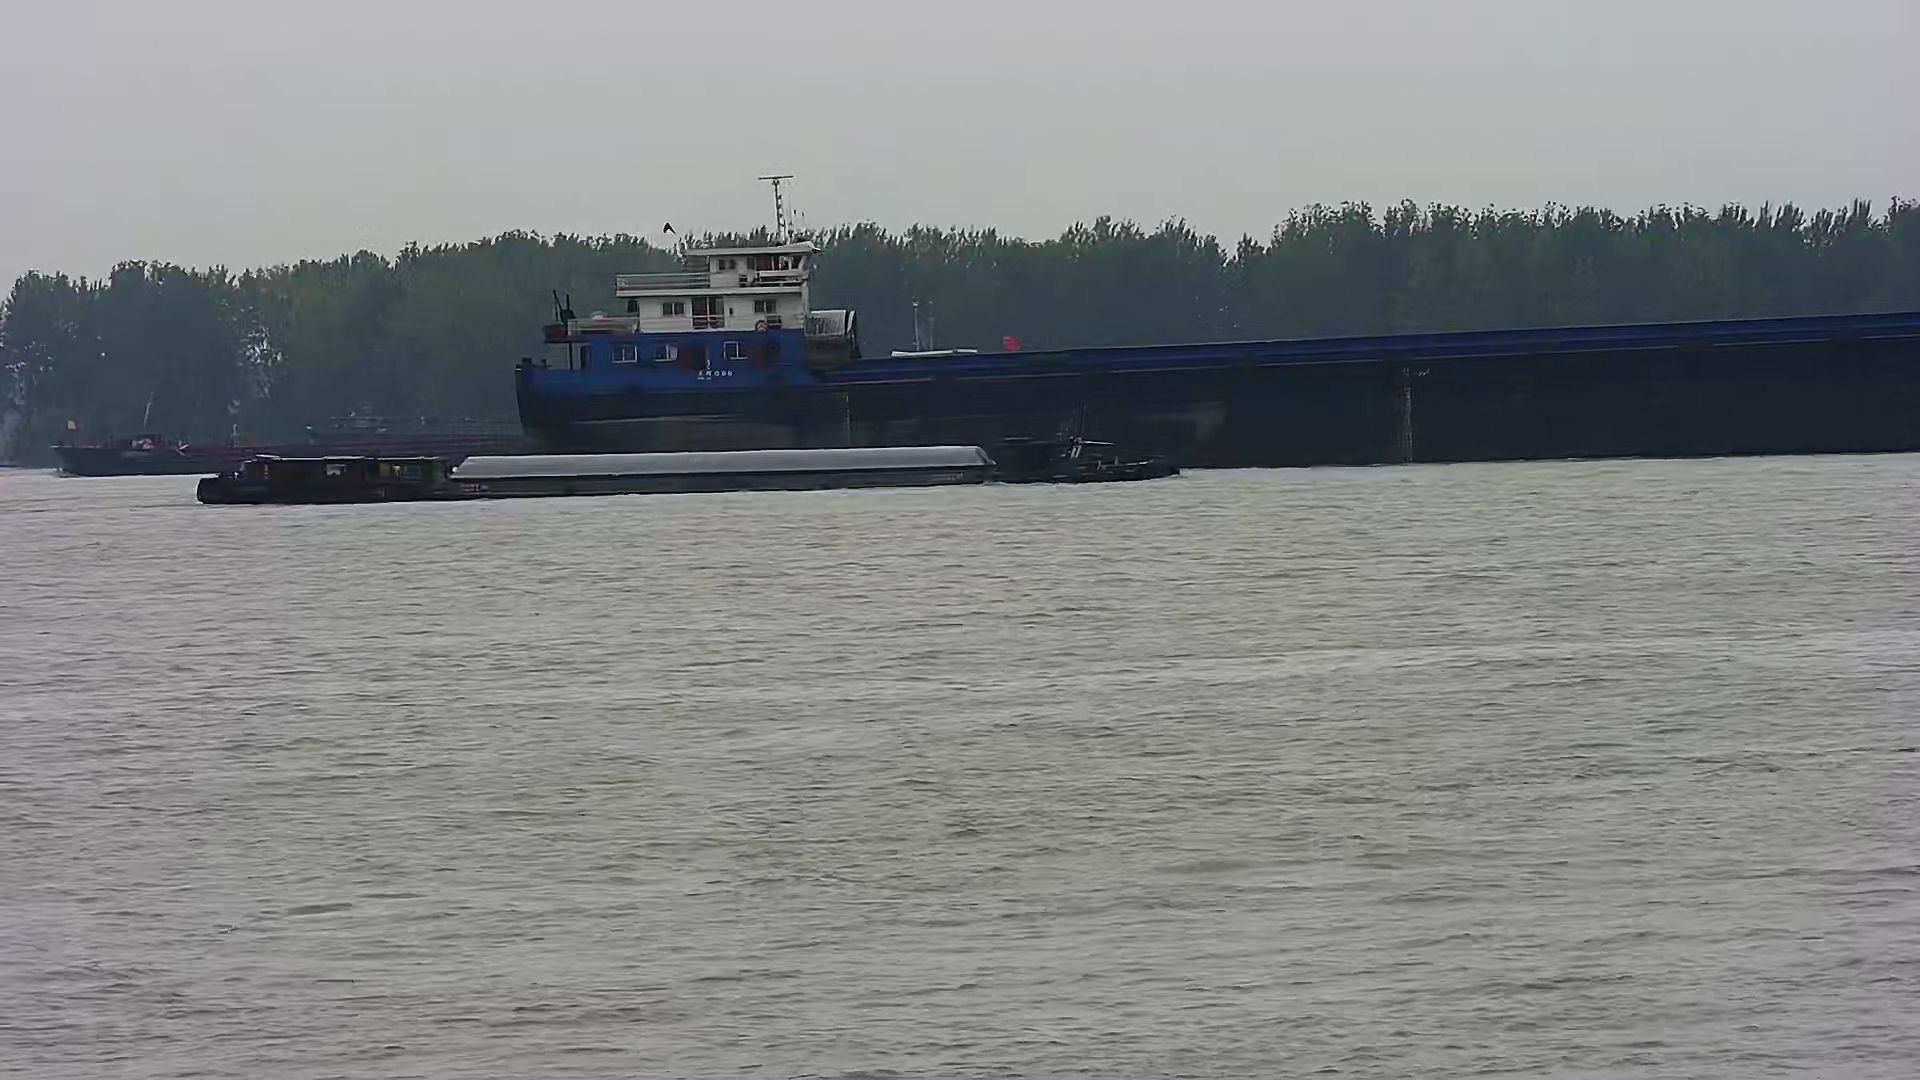ship: (504, 225, 1920, 469), (193, 429, 1183, 506), (51, 419, 545, 476)
